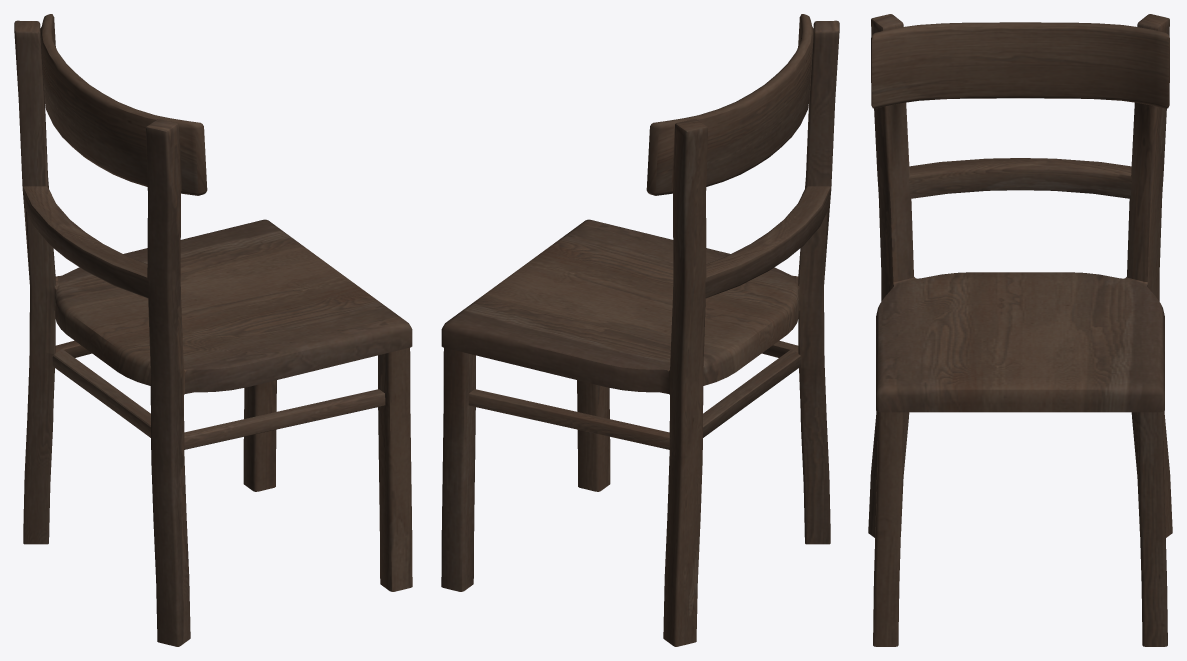
File: wooden_chair.glb
The picture shows the model from 3 angles, left to right: view 1: azimuth 30°, elevation 25°; view 2: azimuth 150°, elevation 25°; view 3: azimuth 270°, elevation 25°; orthographic projection.
Visible parts, largest first — view 1: Cube.008; view 2: Cube.008; view 3: Cube.008.
Boxes of the visible parts, <box> form: Cube.008: <box>14,14,412,646</box>; Cube.008: <box>441,14,839,646</box>; Cube.008: <box>868,14,1172,646</box>.
Size of the model in its own units: 0.4729 by 0.8446 by 0.4573.
1 material, 1 textured.
